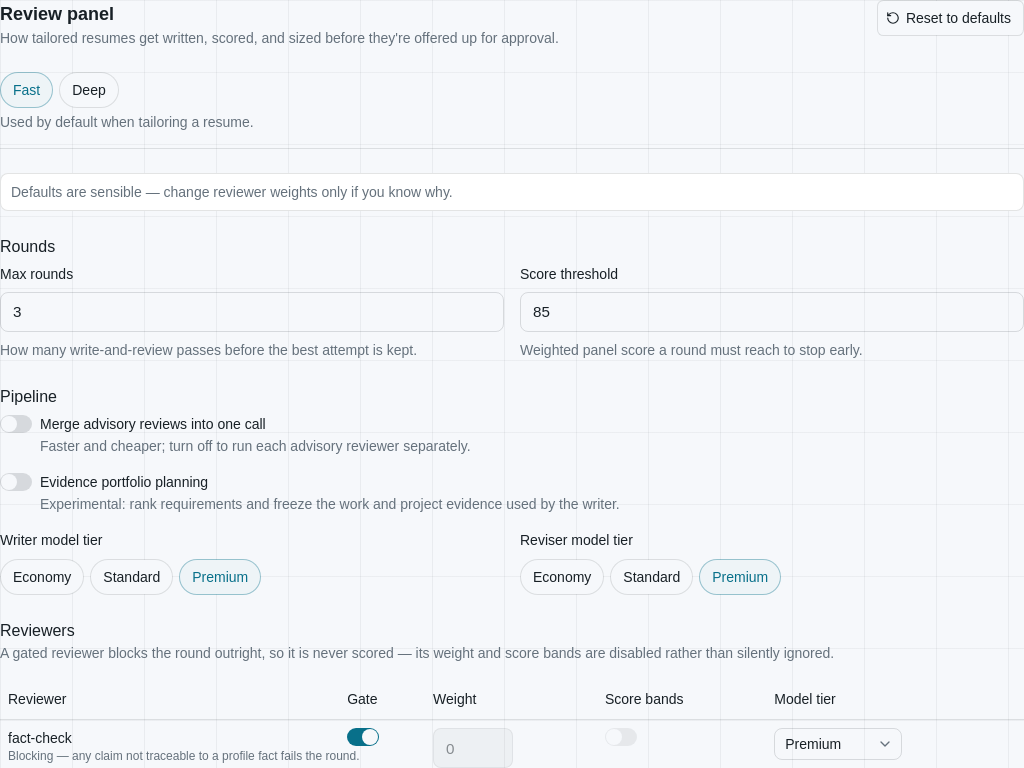
it: ReviewSettingsPage reviewer roster › re-enables weight when the gate is turned off, preserving its value
Click the switch named "fact-check gate": click(363, 737) top-left (347, 728), bottom-right (379, 746)
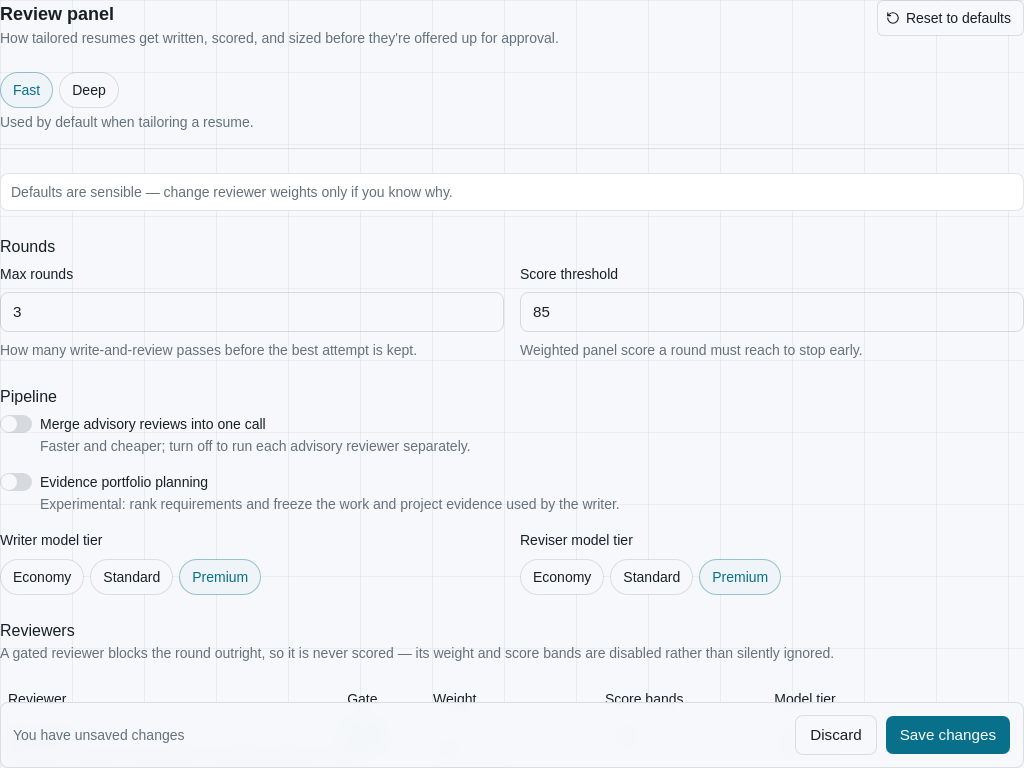
Expected: the number field named "fact-check weight" holds "0", top-left (433, 728), bottom-right (513, 767)
Now the number field named "fact-check weight" is enabled, box top-left (433, 728), bottom-right (513, 767)
